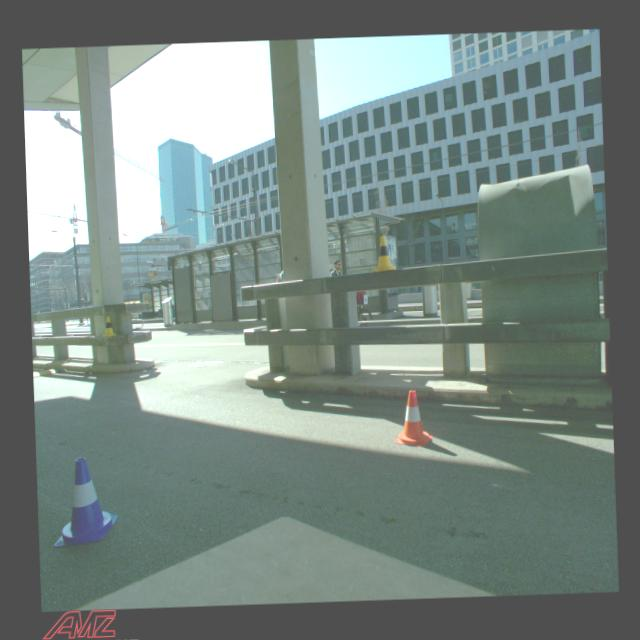blue_cone: (52, 455, 118, 543)
orange_cone: (392, 388, 434, 448)
yellow_cone: (372, 235, 394, 272), (102, 316, 115, 337)
